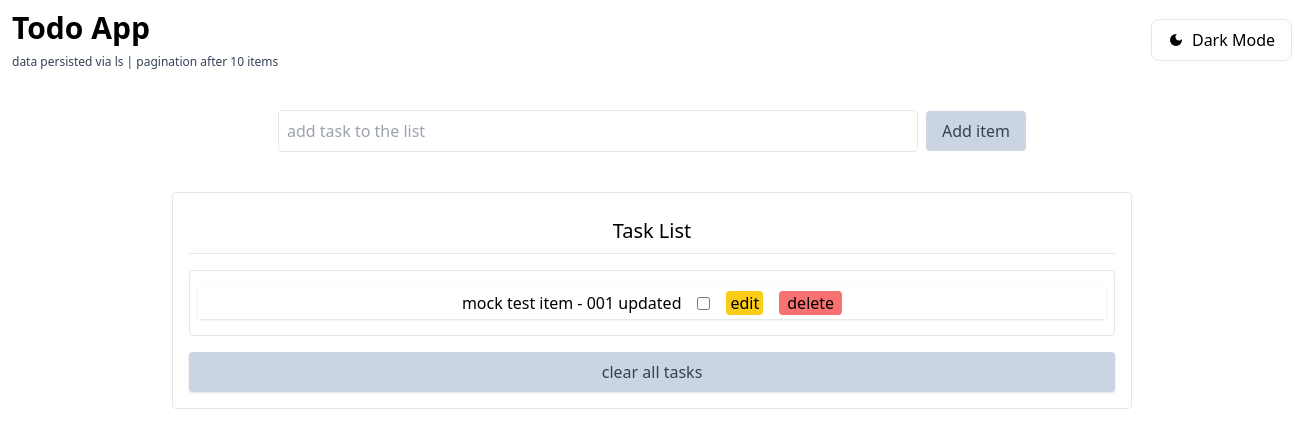
Scenario: Home › should delete mock test string text when clicked on delete button
simulating delete button fire
Click the button "delete" at (811, 303), box x1=779 y1=291 x2=842 y2=315
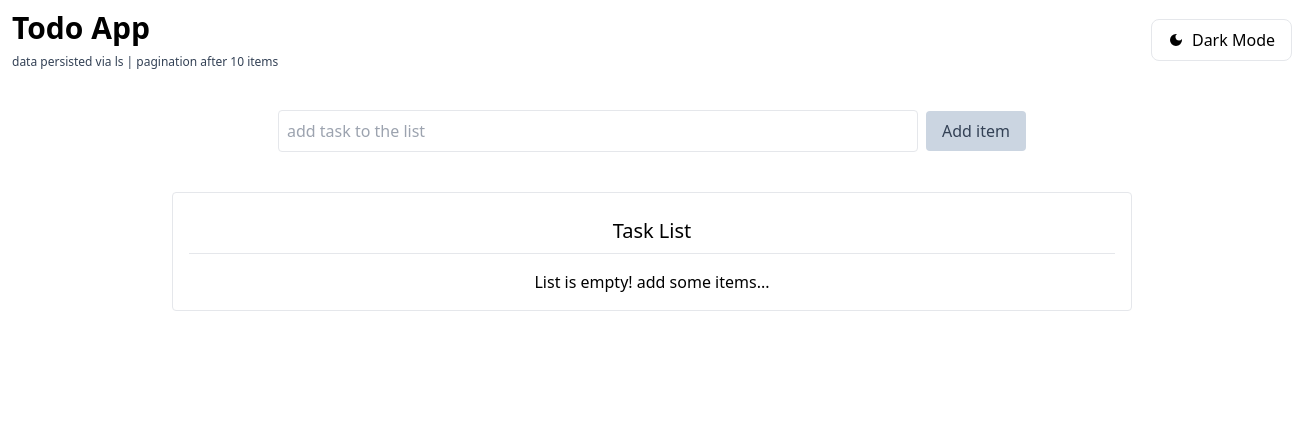
expect the text with test id "taskString" is gone: met
